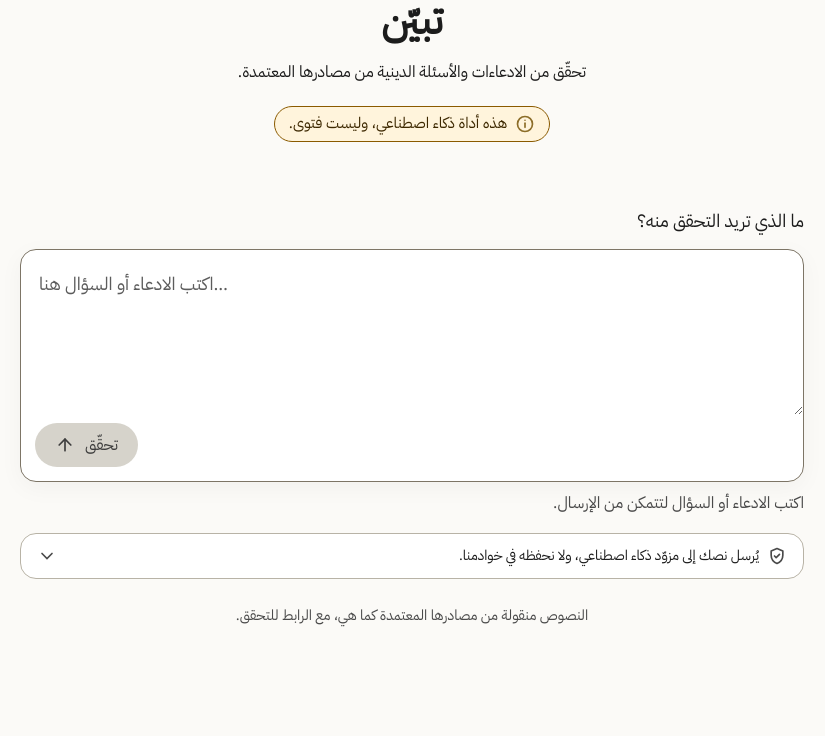
Scenario: one-page flow: submit and results › starts each card with how we understood the text, and keeps the user text in its own block
Type "نص يحتوي ادعاءين" into the text box named "الادعاء أو السؤال المراد التحقق منه" at (412, 332), box 21,250 -> 803,415
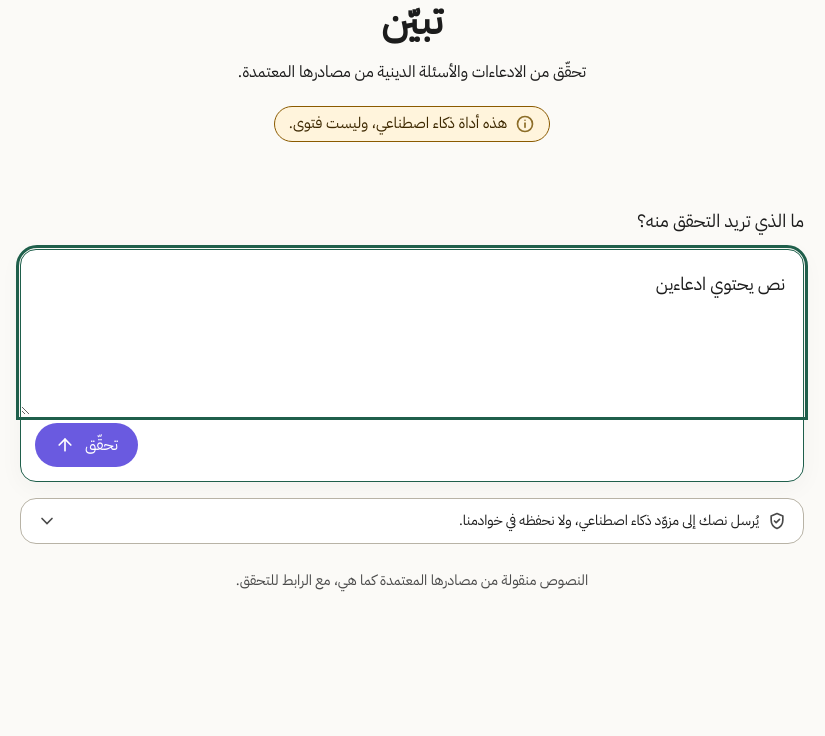
Click the button "تحقّق" at (87, 445), box 35,423 -> 138,467
(page scrolled)
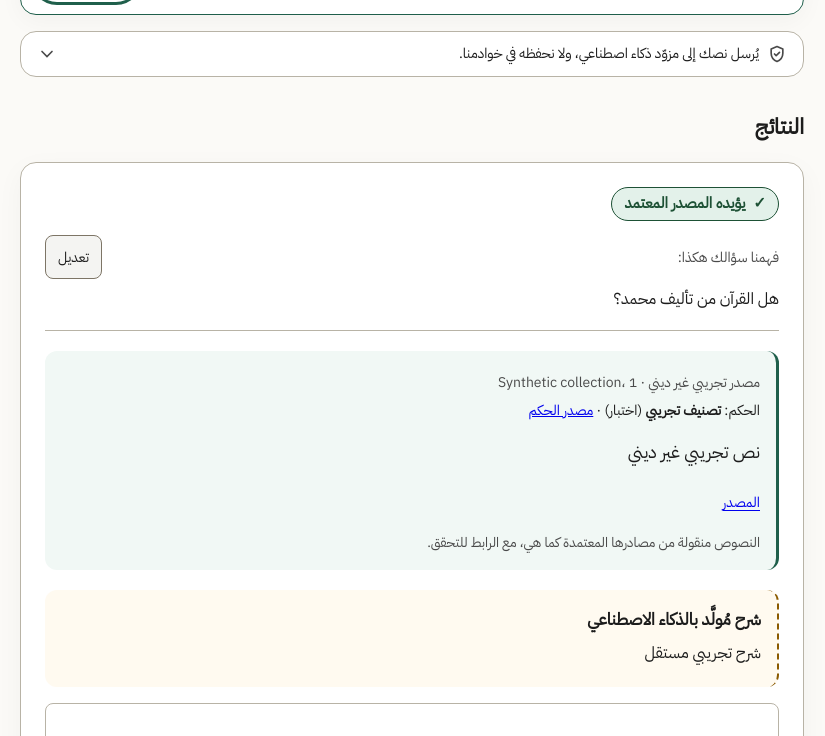
Now the heading "فهمنا سؤالك هكذا:" is shown, box 678,245 -> 779,270
Now the text "هل القرآن من تأليف محمد؟" is shown, box 613,287 -> 779,311
